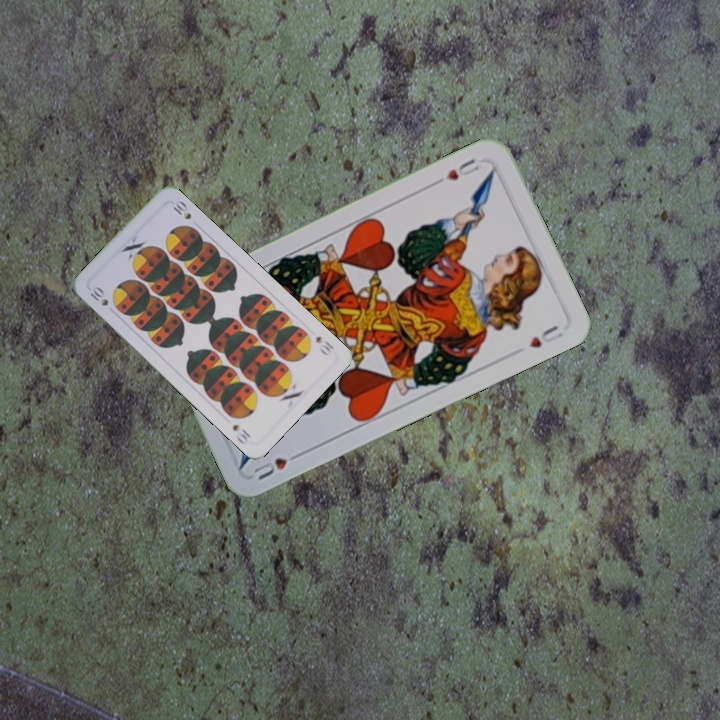HU: (249, 447, 305, 483), (441, 154, 486, 183)
S10: (84, 282, 111, 309), (312, 332, 337, 358)
